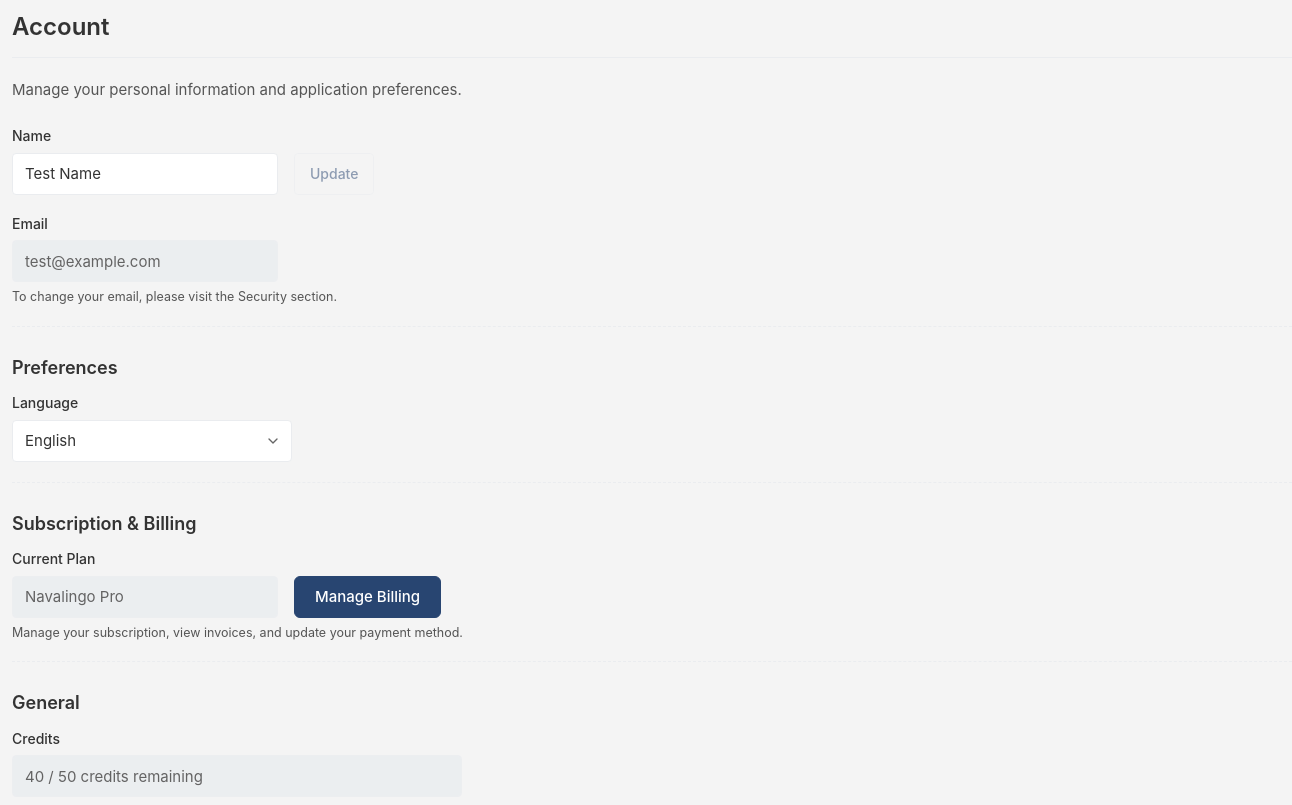
<AccountSection /> › handles profile name update error
The image size is (1292, 805).
Replace the text in the field showing "Test Name" with "New Name2": (145, 174) [12, 152, 278, 194]
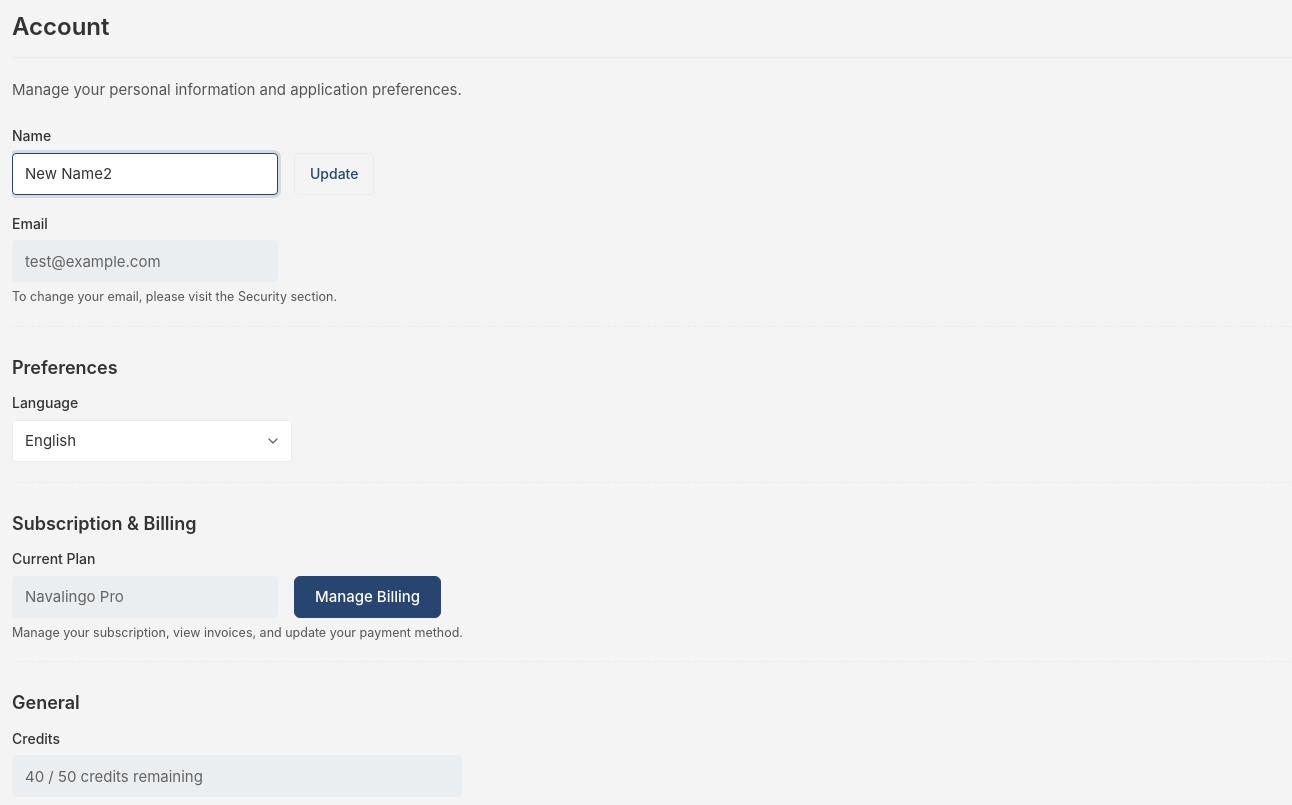
Click the button "Update": (334, 174) [294, 152, 374, 194]
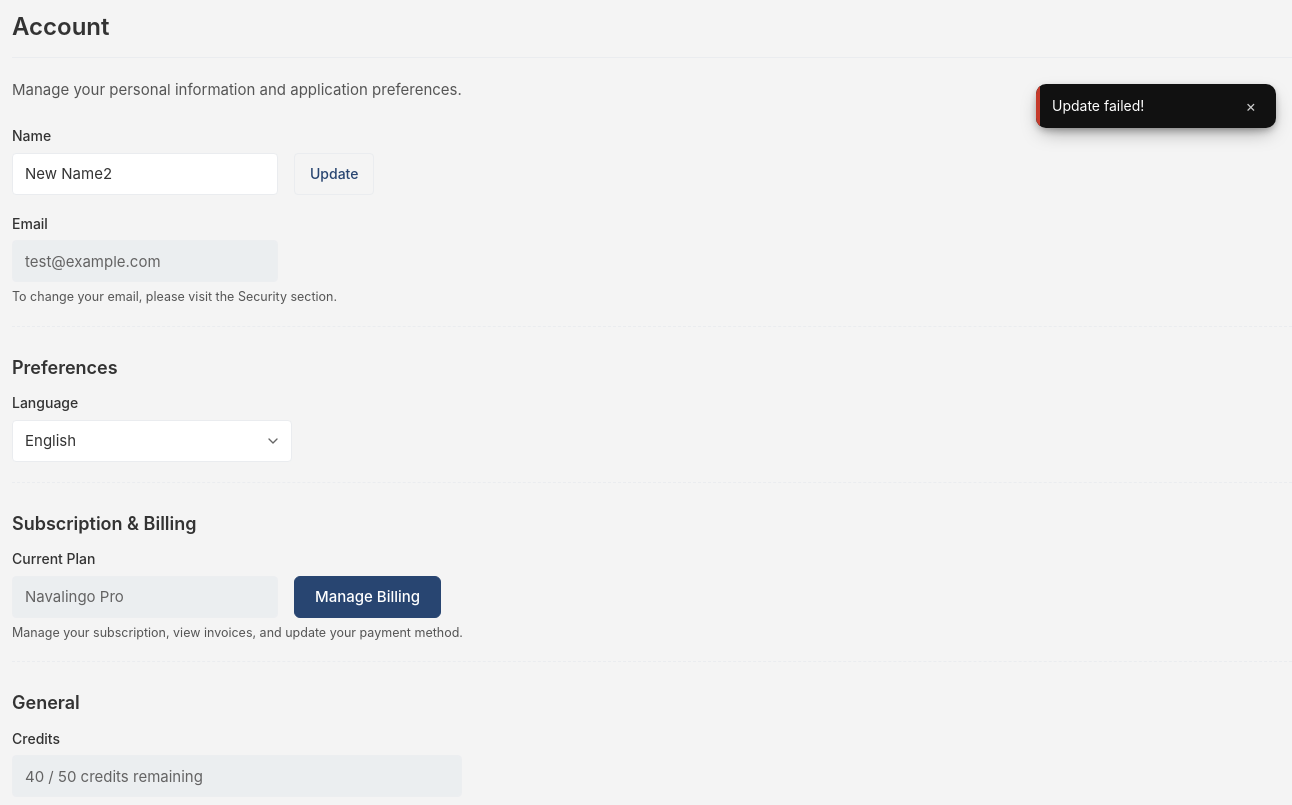
Expected: the text "Update failed!" is shown, [1052, 97, 1144, 114]
